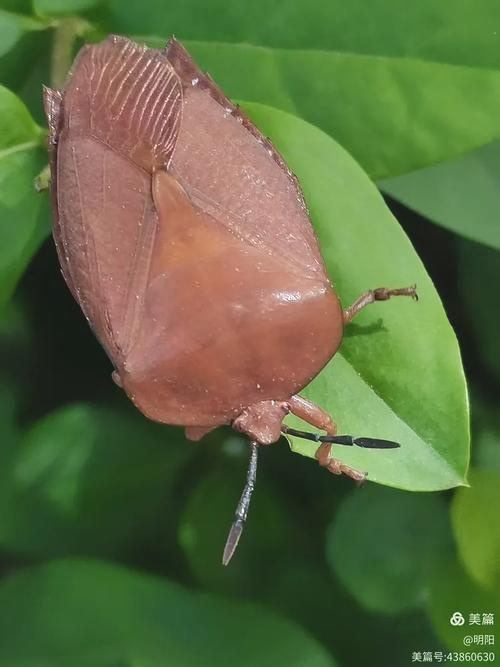Stink_Bug: (31, 15, 401, 457)
